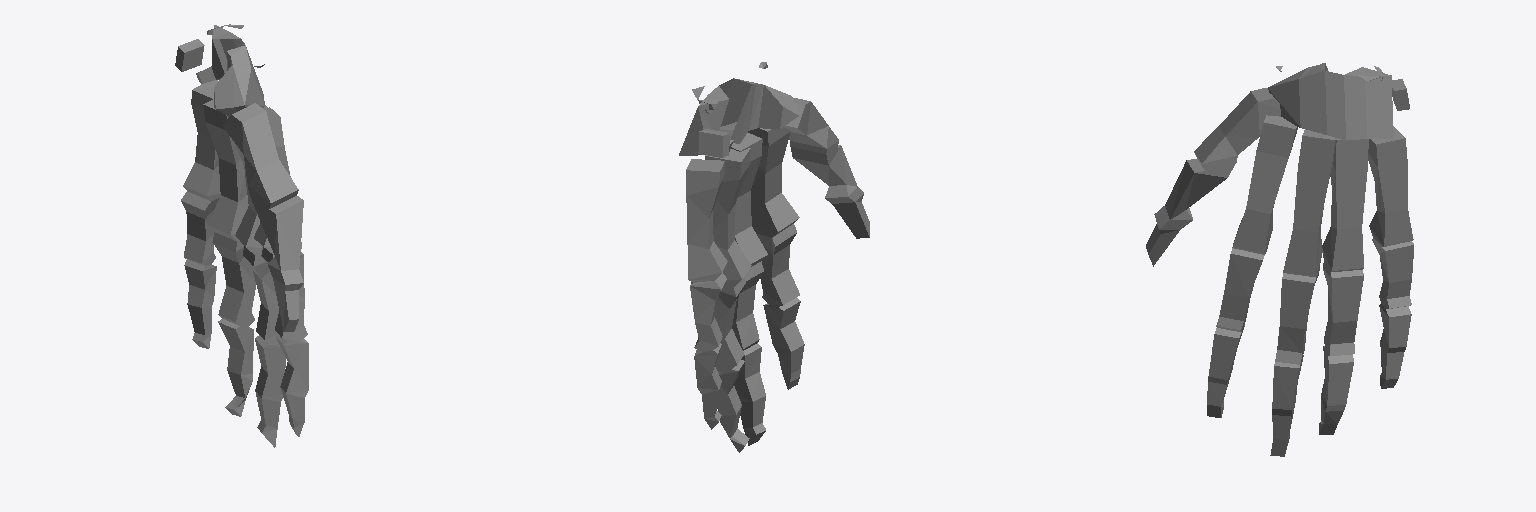
The model's file is leftwristhand.obj.
3 views of the same model, side by side, from view 1: azimuth 30°, elevation 25°; view 2: azimuth 150°, elevation 25°; view 3: azimuth 270°, elevation 25° (orthographic).
Parts seen in each view (by area): view 1: sub01; view 2: sub01; view 3: sub01.
Boxes of the visible parts, <box> form: sub01: <box>175,24,308,447</box>; sub01: <box>679,62,869,452</box>; sub01: <box>1146,63,1413,456</box>.
Size of the model in its own units: 1.6 by 7.94 by 5.02.